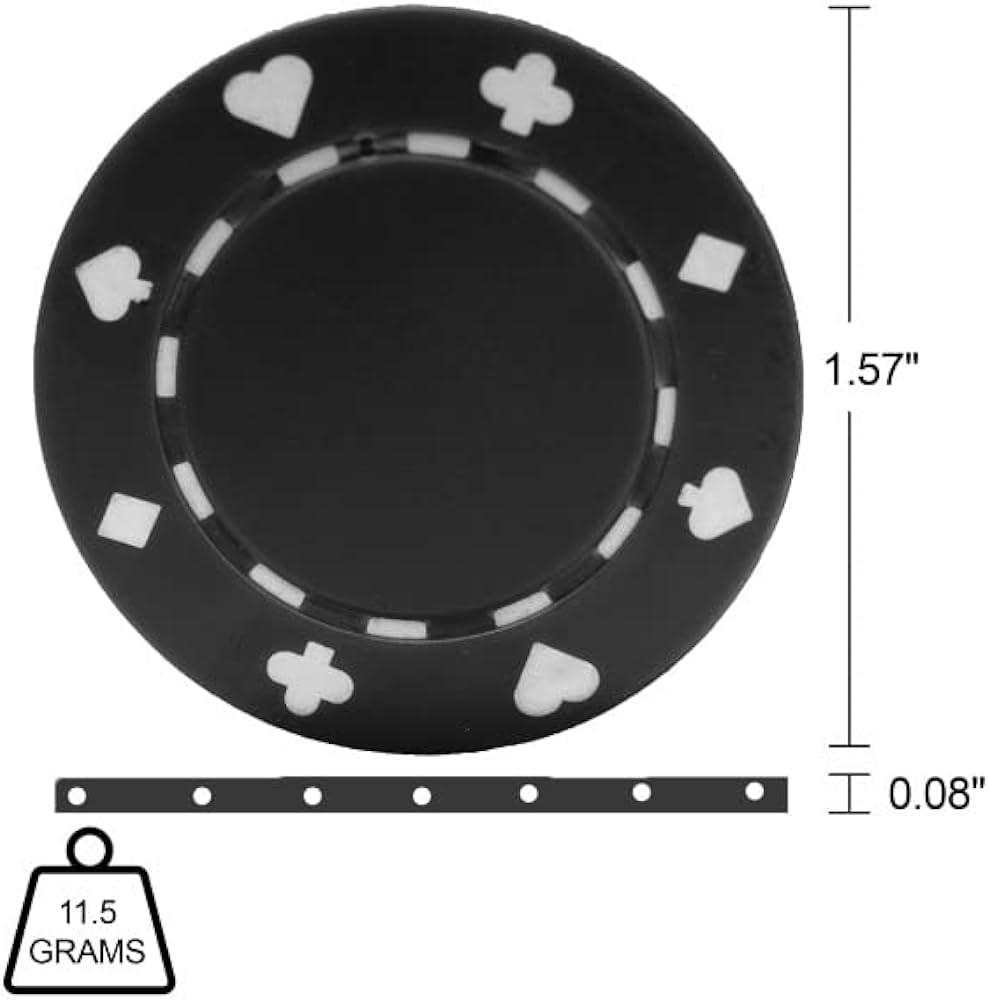chip-black: (35, 8, 803, 751)
